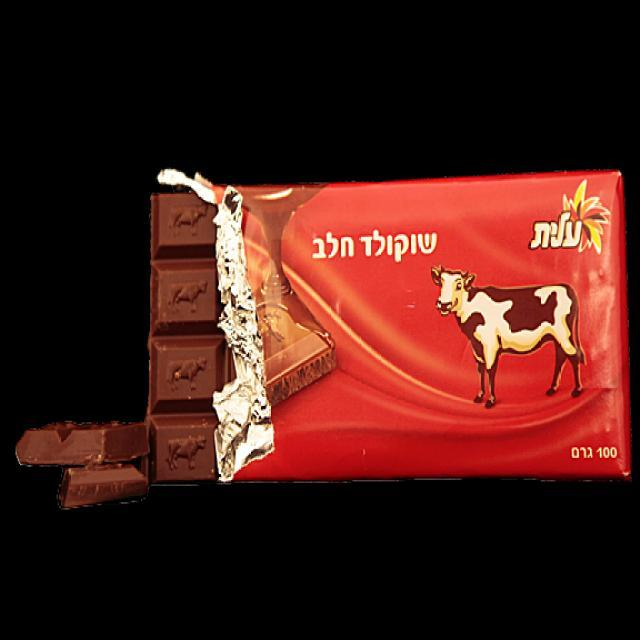Chocolate bar: (217, 175, 637, 491)
Chocolate bar packaged: (145, 188, 217, 496), (12, 416, 148, 468)
